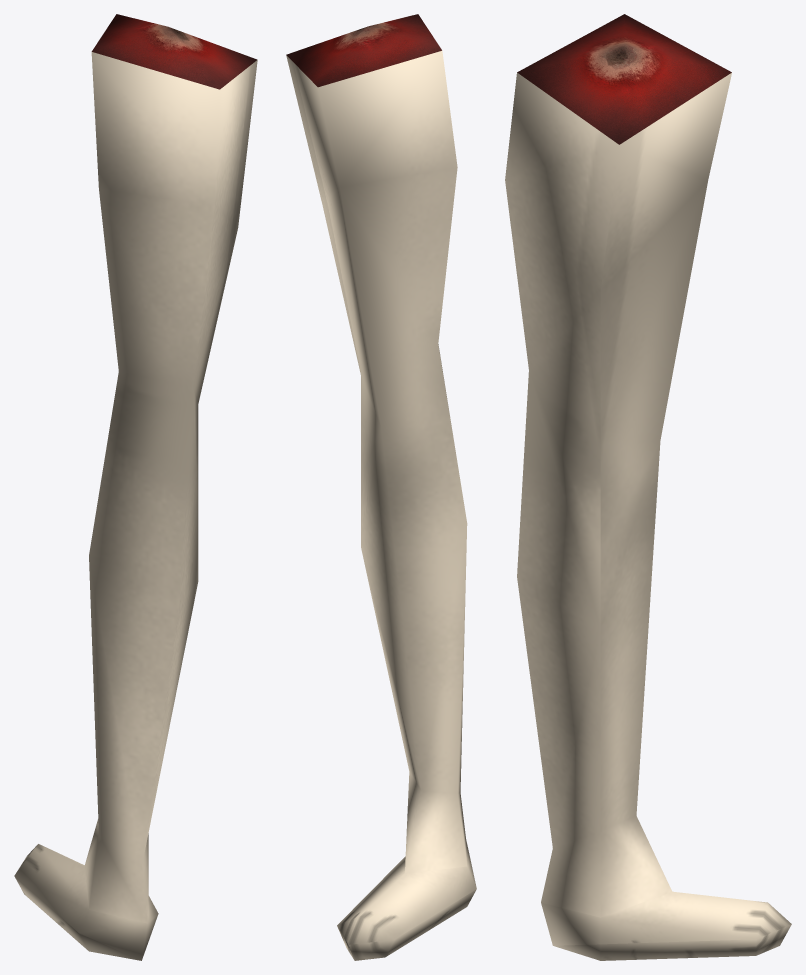
Rendered from HumanoidLeftLeg.fbx.
3 views of the same model, side by side, from view 1: azimuth 30°, elevation 25°; view 2: azimuth 150°, elevation 25°; view 3: azimuth 270°, elevation 25° (orthographic). The views are drawn at different scales.
Visible parts, largest first — view 1: LeftLeg; view 2: LeftLeg; view 3: LeftLeg.
Part boxes in pixels (x1=…): LeftLeg: x1=14, y1=14, x2=257, y2=960; LeftLeg: x1=286, y1=14, x2=476, y2=960; LeftLeg: x1=505, y1=14, x2=791, y2=960.
Size of the model in its own units: 18.87 by 85.88 by 24.
